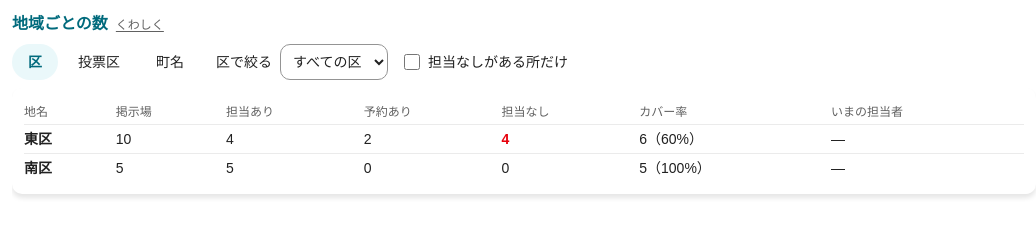
投票区の単位では、投票区の行が区の名前つきで出る
Click the button "投票区". click: (99, 62)
box: [62,44,136,80]
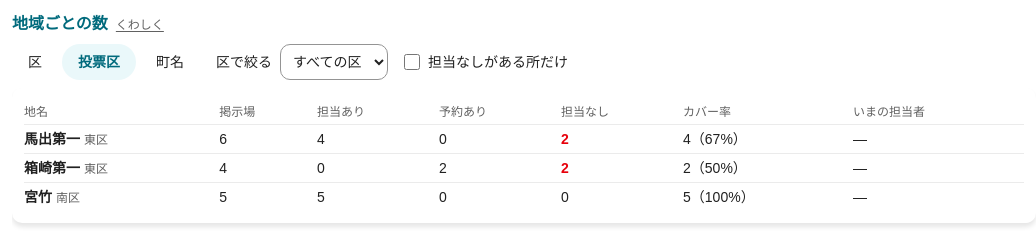
Now the text "馬出第一" shows "東区", box [84,133,108,147]
Now the button "箱崎第一" is shown, box [24,158,80,178]
